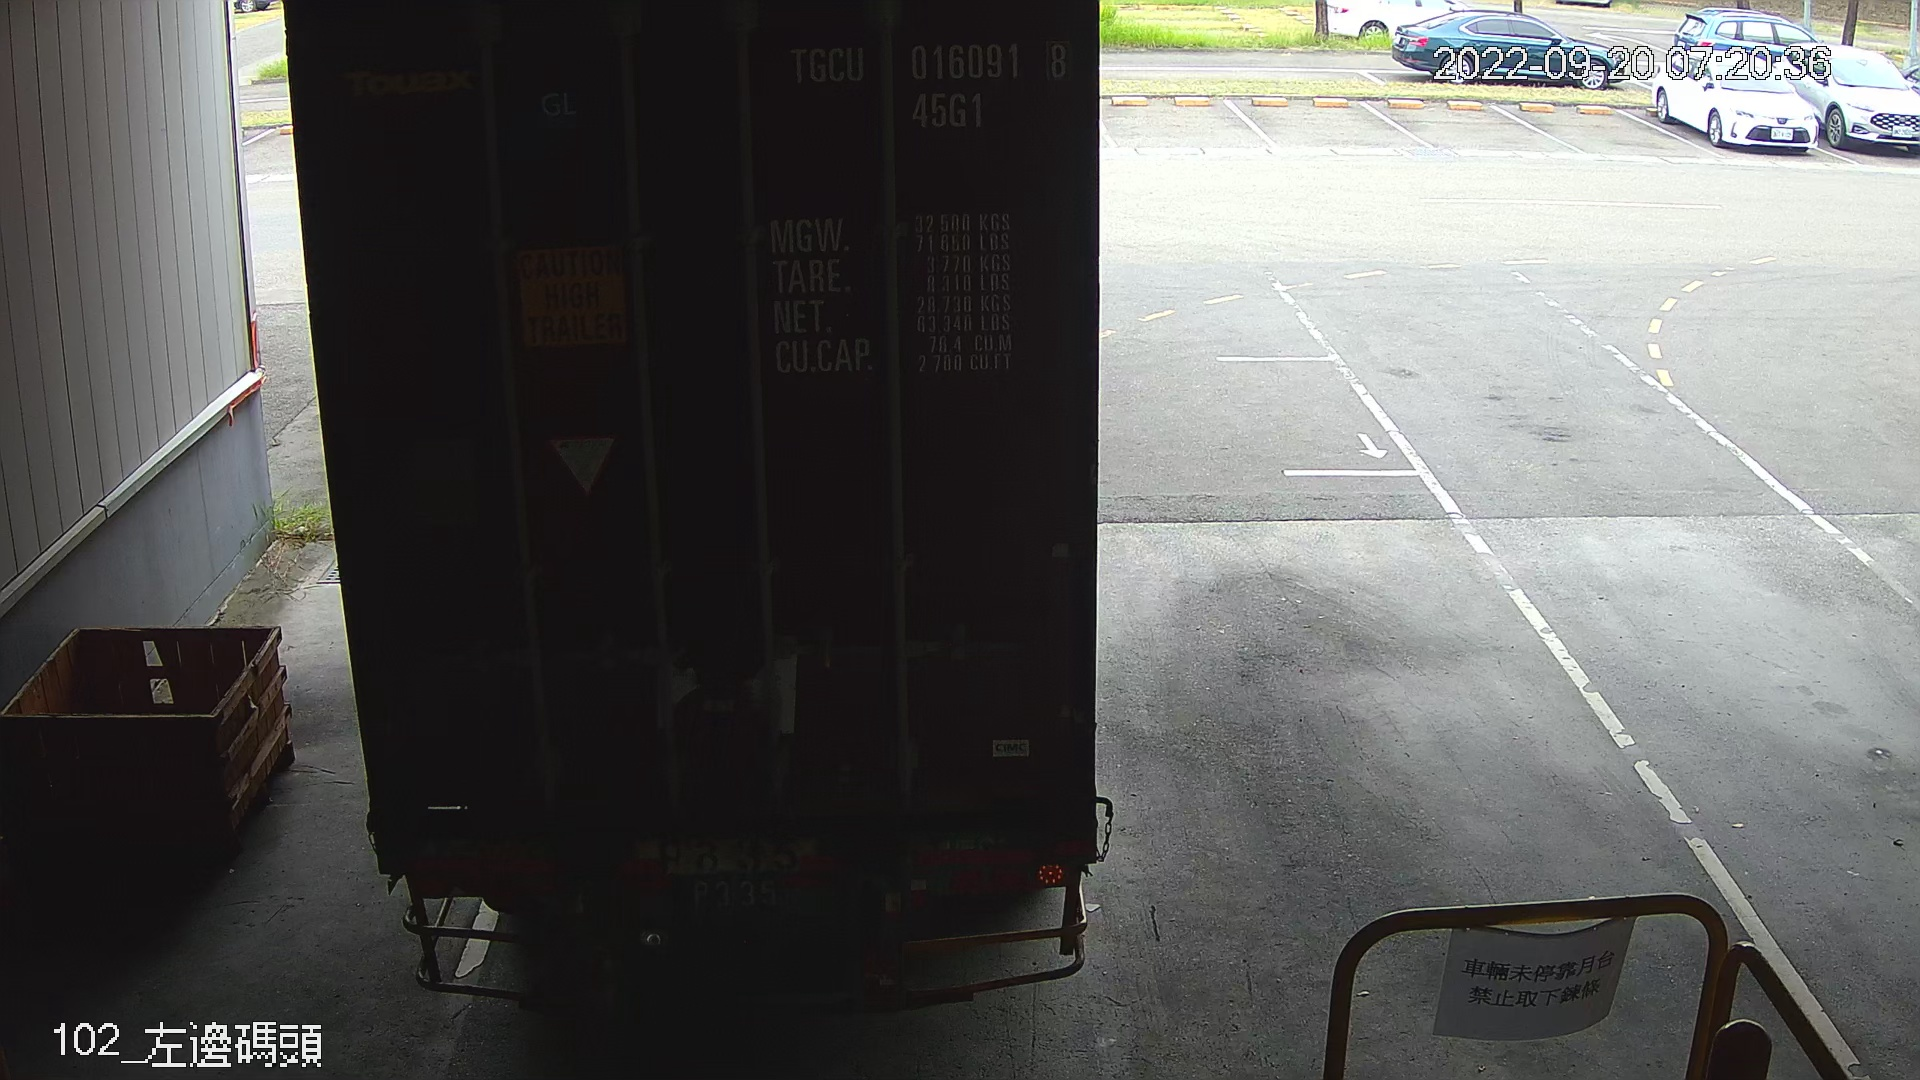container: (775, 30, 1079, 138)
